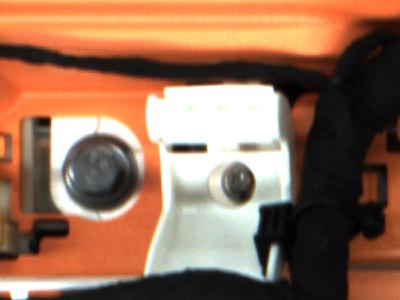nut_b: (60, 139, 145, 223)
